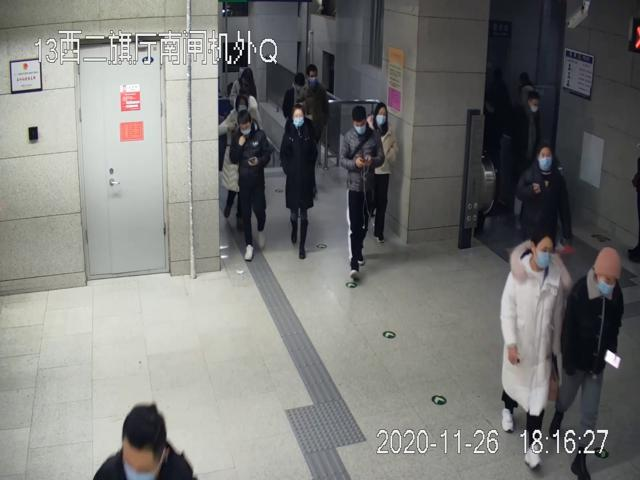person: (498, 232, 568, 468), (565, 245, 626, 480), (341, 106, 383, 277), (229, 111, 271, 261), (279, 105, 317, 259)
